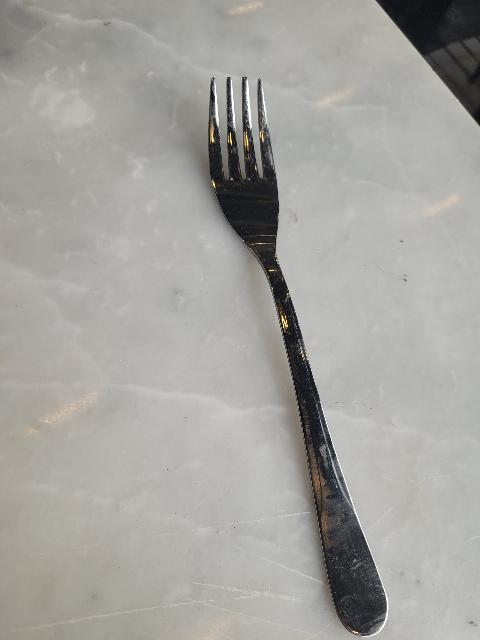Metal: (208, 72, 389, 637)
